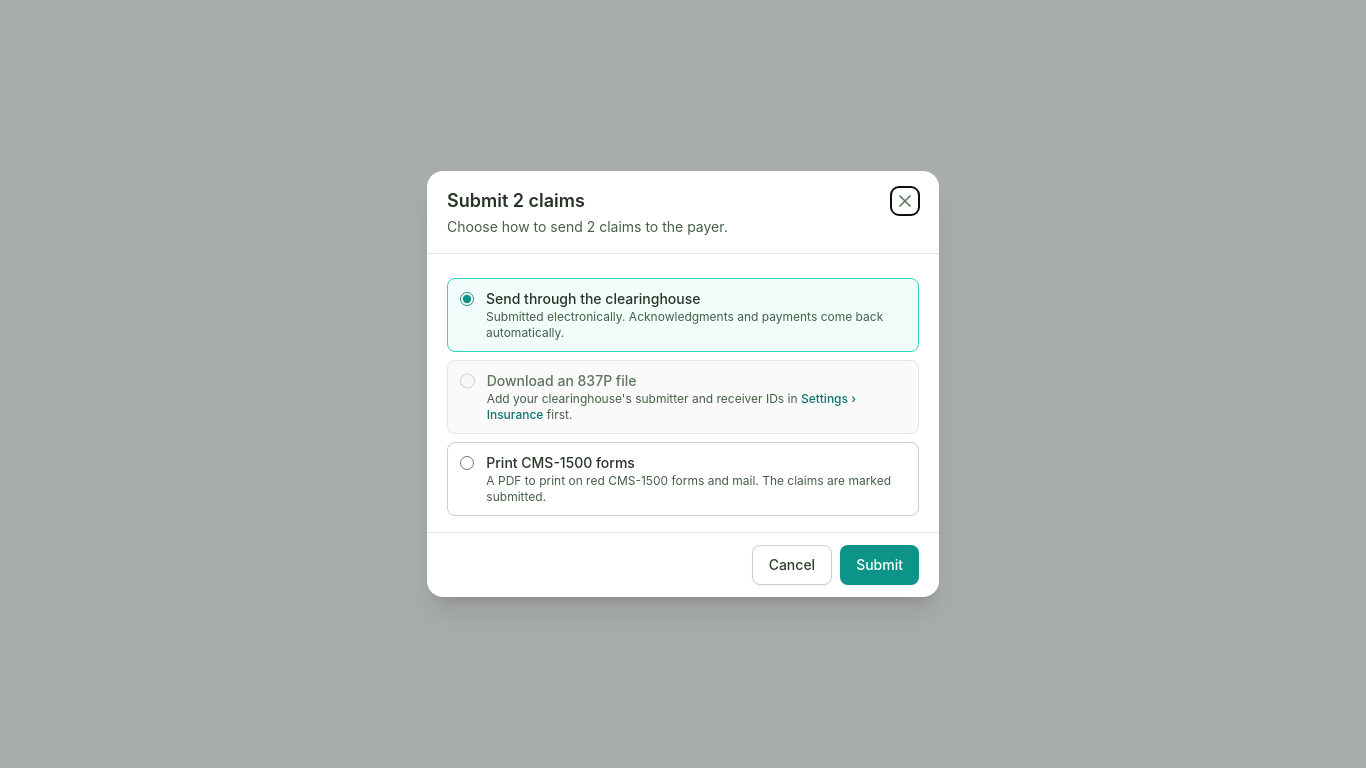
submitting claims › queues claims with the clearinghouse when one is connected
The width and height of the screenshot is (1366, 768).
Expected: the radio button labelled "Send through the clearinghouse" is checked, [460,291,474,307]
Click the button "Submit". click: (880, 565)
box: [840,545,919,585]
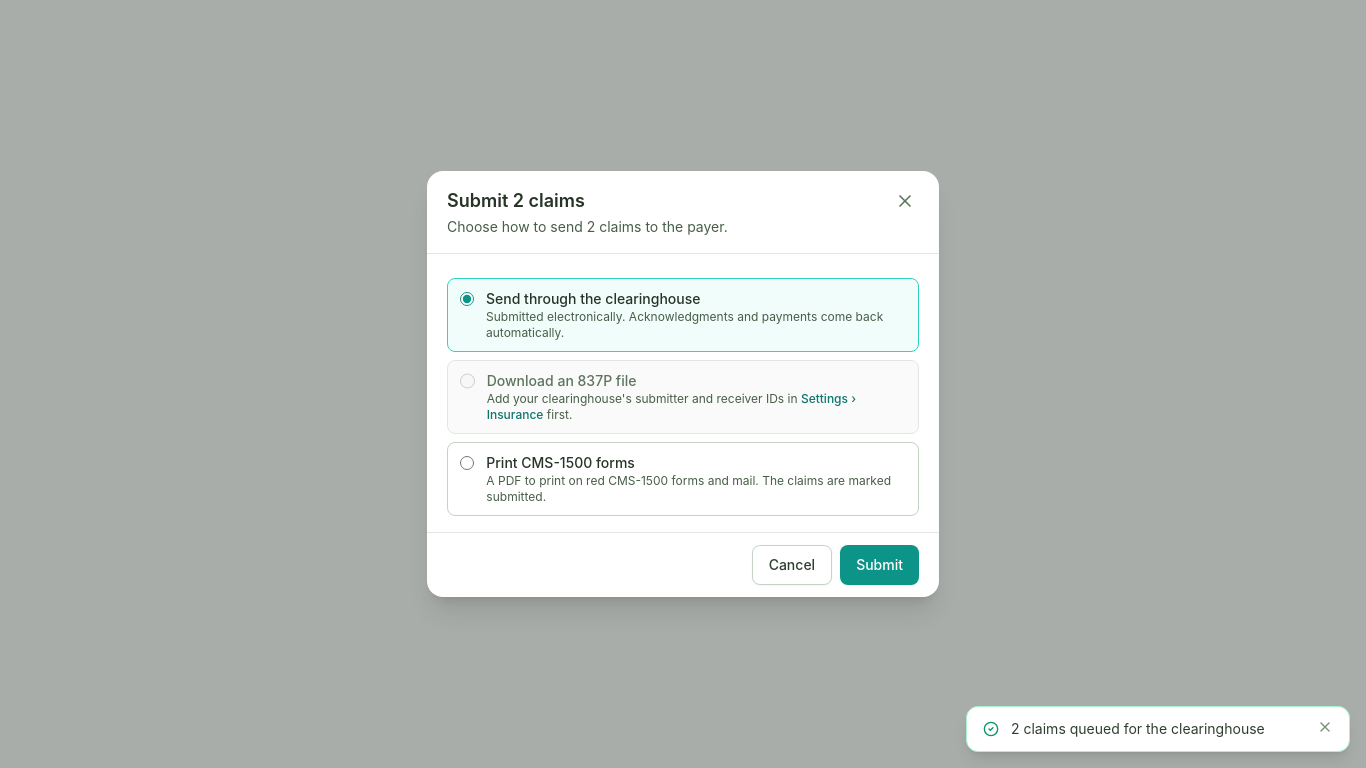
Result: the text "2 claims queued for the clearinghouse" is shown at [1011,719,1305,739]
